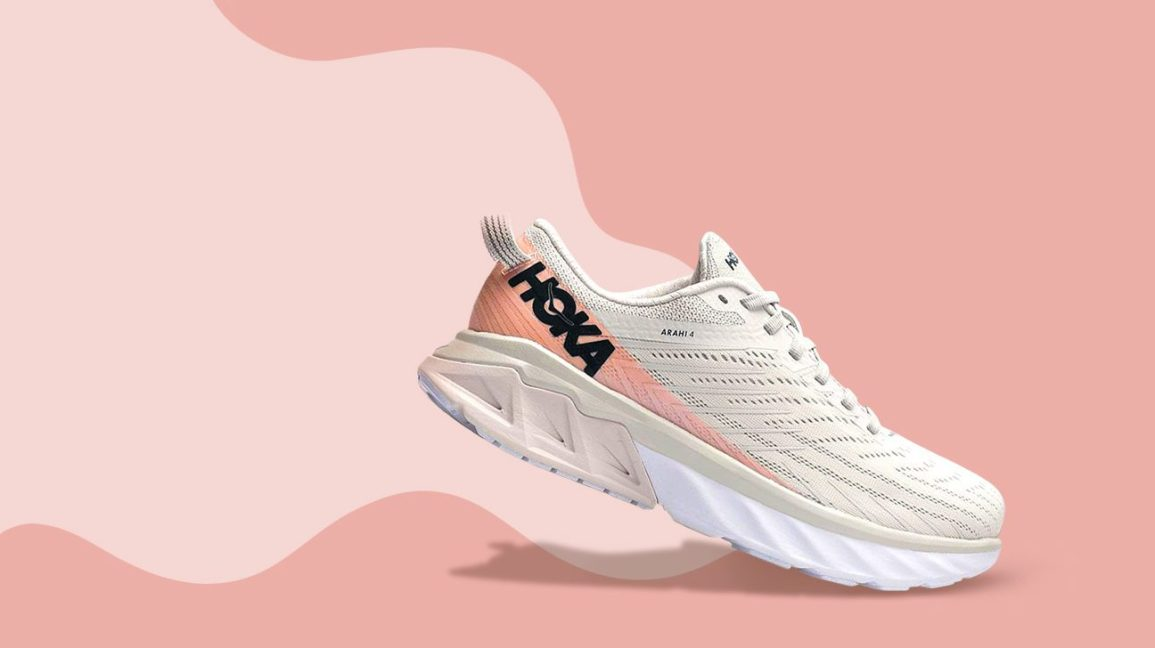shoes: (408, 203, 1009, 603)
